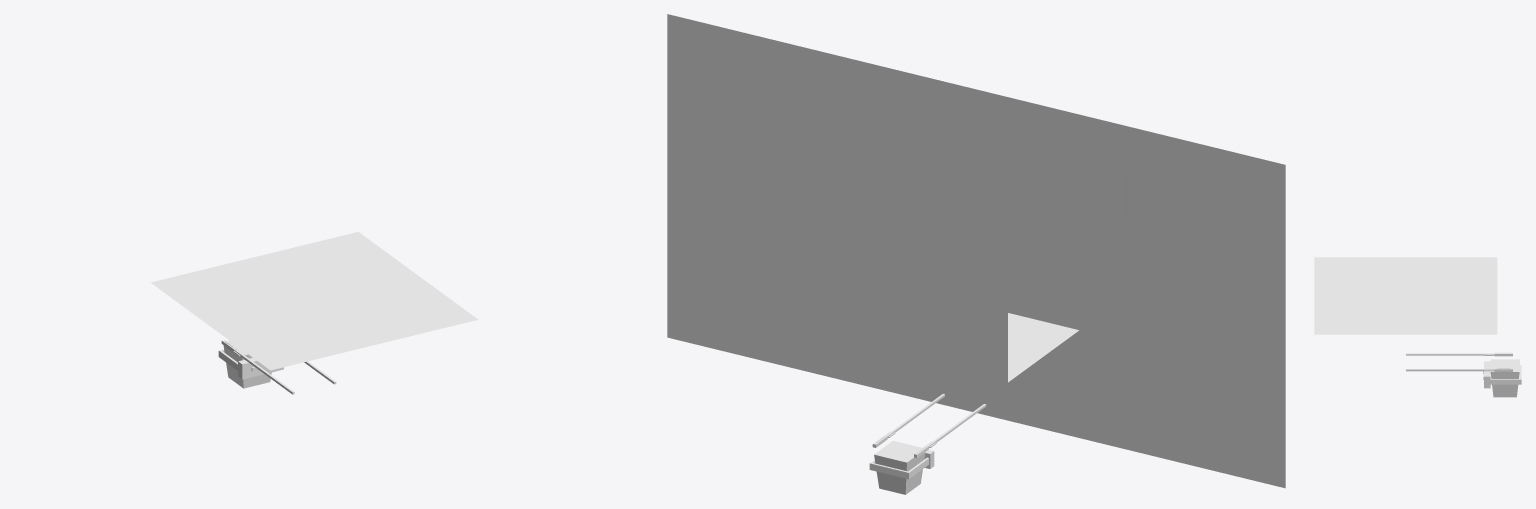
The model's file is GameCore.glb.
The picture shows the model from 3 angles, left to right: view 1: azimuth 30°, elevation 25°; view 2: azimuth 150°, elevation 25°; view 3: azimuth 270°, elevation 25°; orthographic projection. The views are drawn at different scales.
Visible parts, largest first — view 1: floor, Head; view 2: MoveBackWall, front, floor, Head, Glasses; view 3: floor, Head, Blade (×2), Glasses.
Part boxes in pixels (bbox=[...]): floor: bbox=[150, 232, 478, 370]; Head: bbox=[223, 340, 271, 388]; MoveBackWall: bbox=[667, 14, 1285, 488]; front: bbox=[802, 116, 1007, 382]; floor: bbox=[1008, 313, 1078, 382]; Head: bbox=[874, 440, 925, 494]; Glasses: bbox=[869, 449, 934, 479]; floor: bbox=[1314, 257, 1497, 334]; Head: bbox=[1490, 359, 1519, 397]; Blade (×2): bbox=[1406, 353, 1494, 371]; Glasses: bbox=[1484, 361, 1521, 388].
Size of the model in its own units: 6 by 3.16 by 2.27.
Materials: 7 (1 with a texture image).
